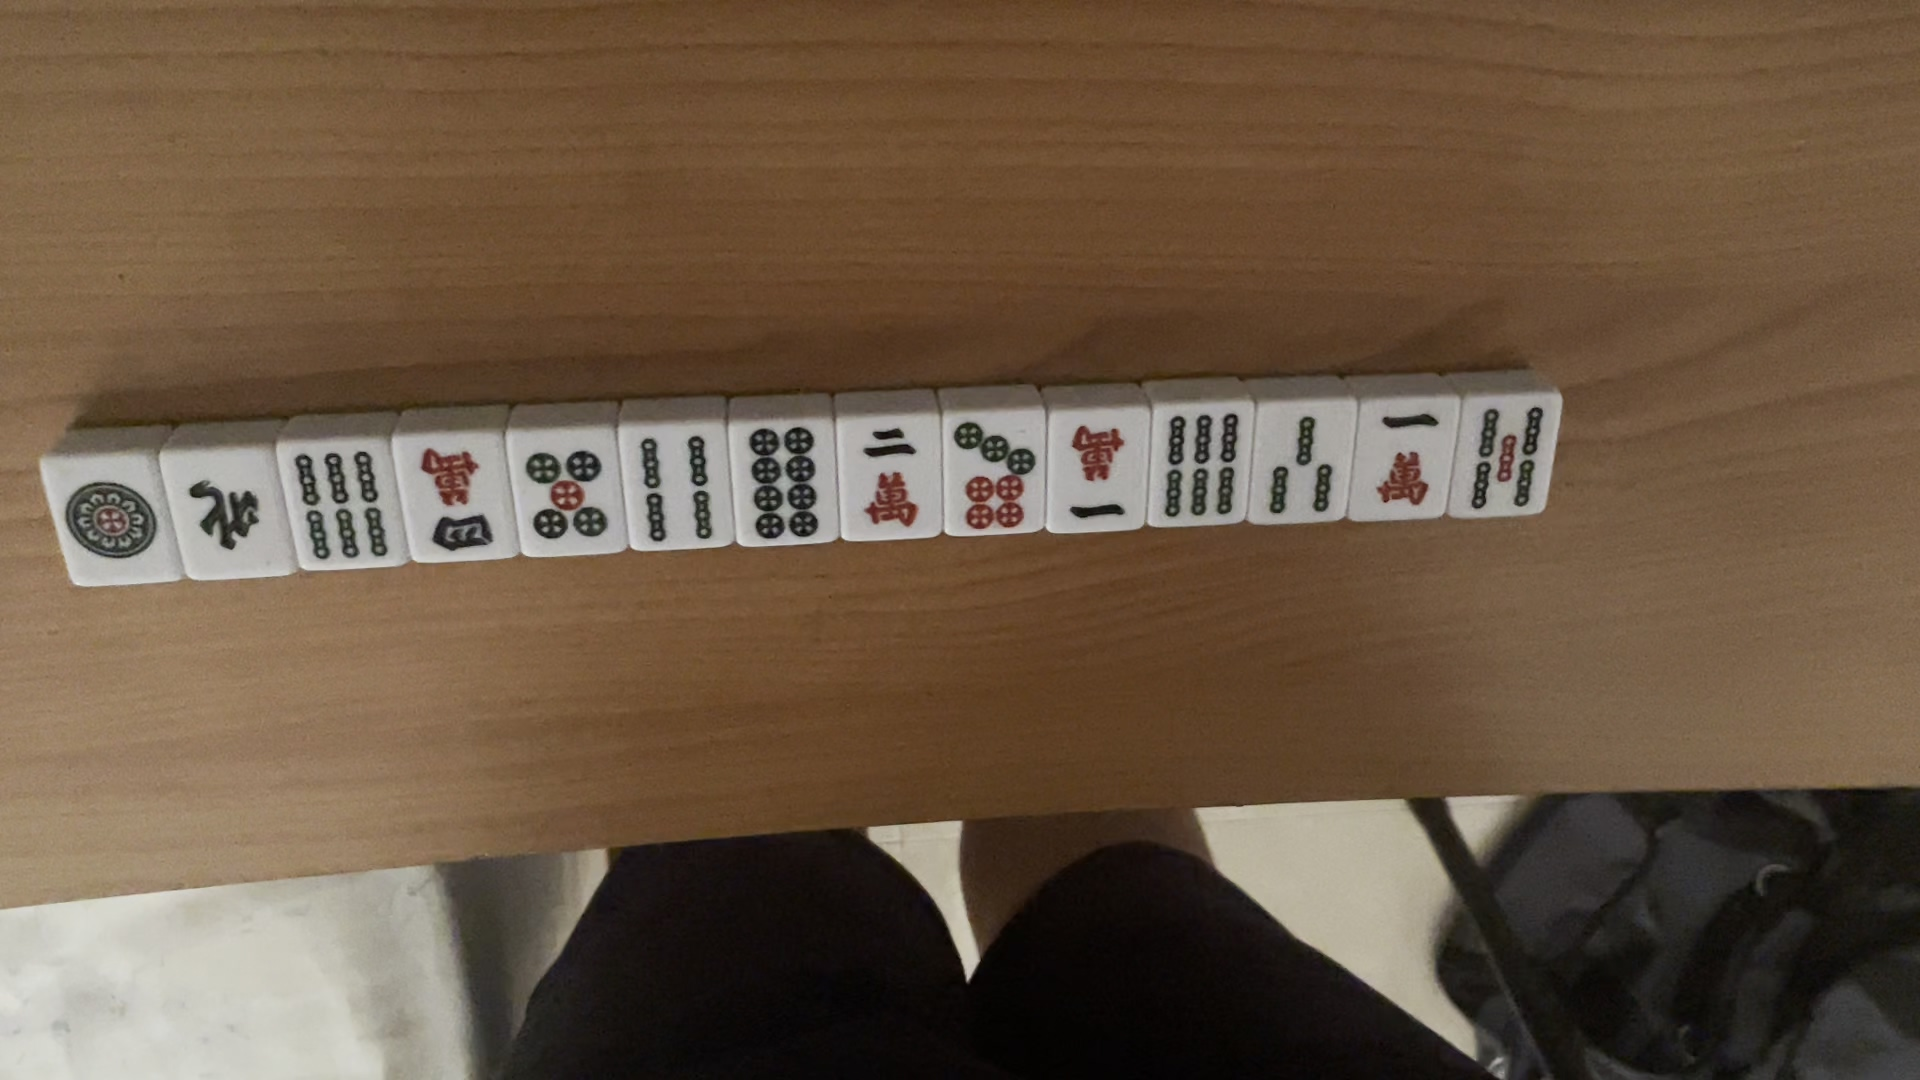b-3: (1257, 407, 1338, 517)
b-4: (640, 434, 717, 547)
b-5: (1458, 398, 1552, 521)
b-6: (293, 444, 390, 562), (1164, 414, 1241, 525)
c-1: (1362, 404, 1445, 517), (1054, 422, 1131, 522)
c-2: (845, 419, 924, 538)
c-4: (410, 444, 502, 553)
d-1: (62, 479, 162, 570)
d-5: (520, 440, 611, 541)
d-7: (951, 418, 1033, 534)
d-8: (748, 429, 820, 543)
honors-north: (183, 460, 265, 556)
